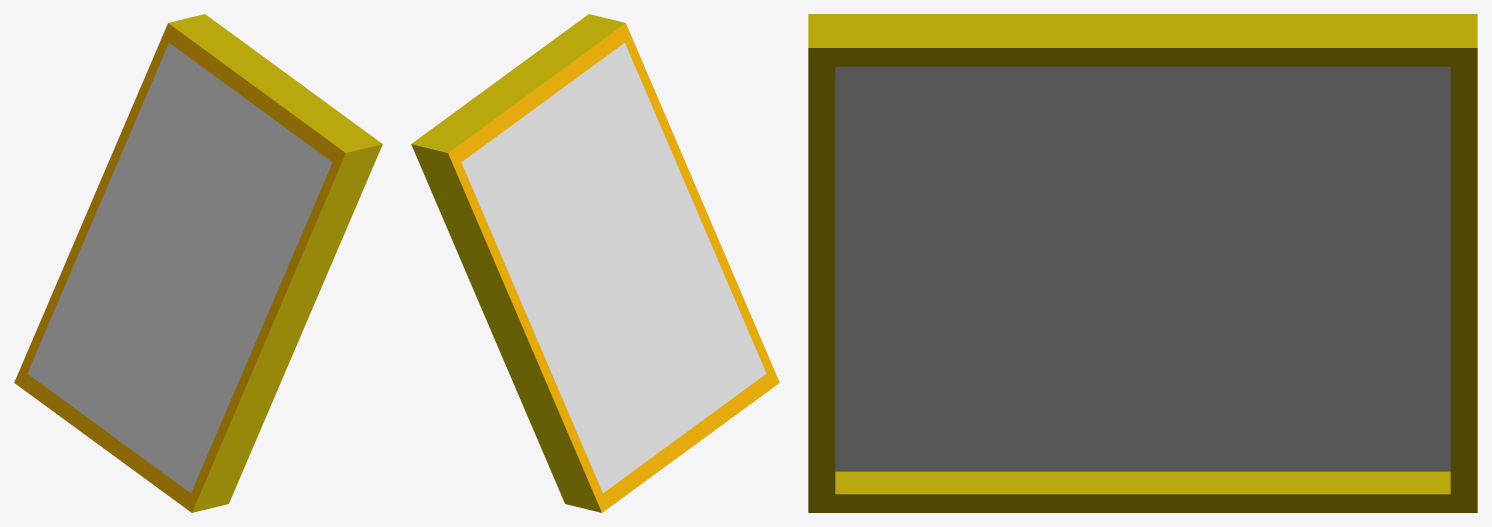
File: window_slanted_2x1x2.dae
3 views of the same model, side by side, from view 1: azimuth 30°, elevation 25°; view 2: azimuth 150°, elevation 25°; view 3: azimuth 270°, elevation 25° (orthographic). The views are drawn at different scales.
Parts seen in each view (by area): view 1: Cube; view 2: Cube; view 3: Cube.
Part boxes in pixels (x1,y1,x2,y2): Cube: [14, 14, 382, 512]; Cube: [411, 14, 779, 512]; Cube: [808, 14, 1477, 512].
Size of the model in its own units: 0.31 by 0.5 by 0.5.
